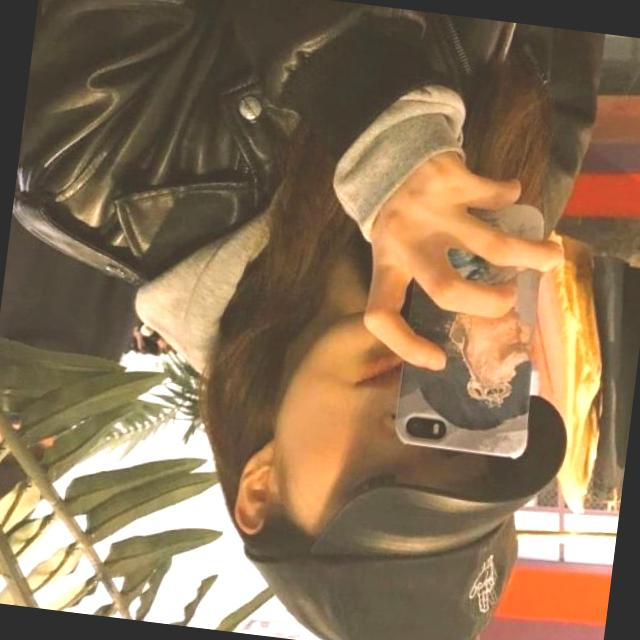lens_back: (401, 411, 430, 440)
phone: (385, 186, 558, 465)
